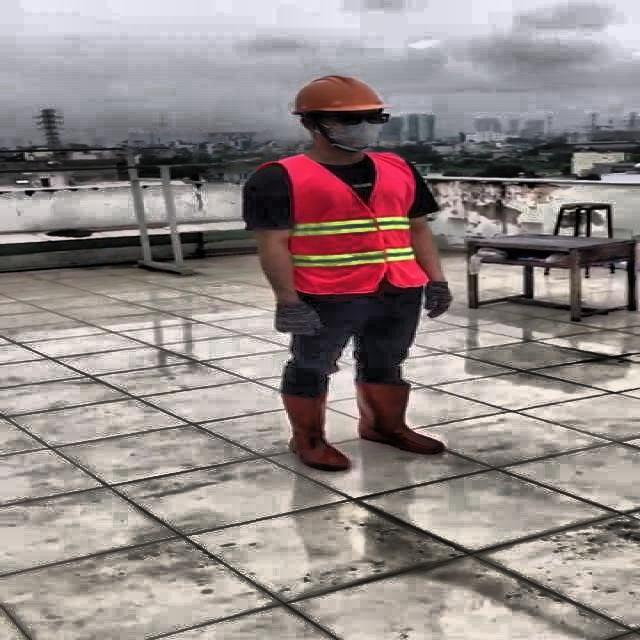safety_helmet: (293, 77, 388, 121)
safety_jacket: (274, 155, 431, 297)
